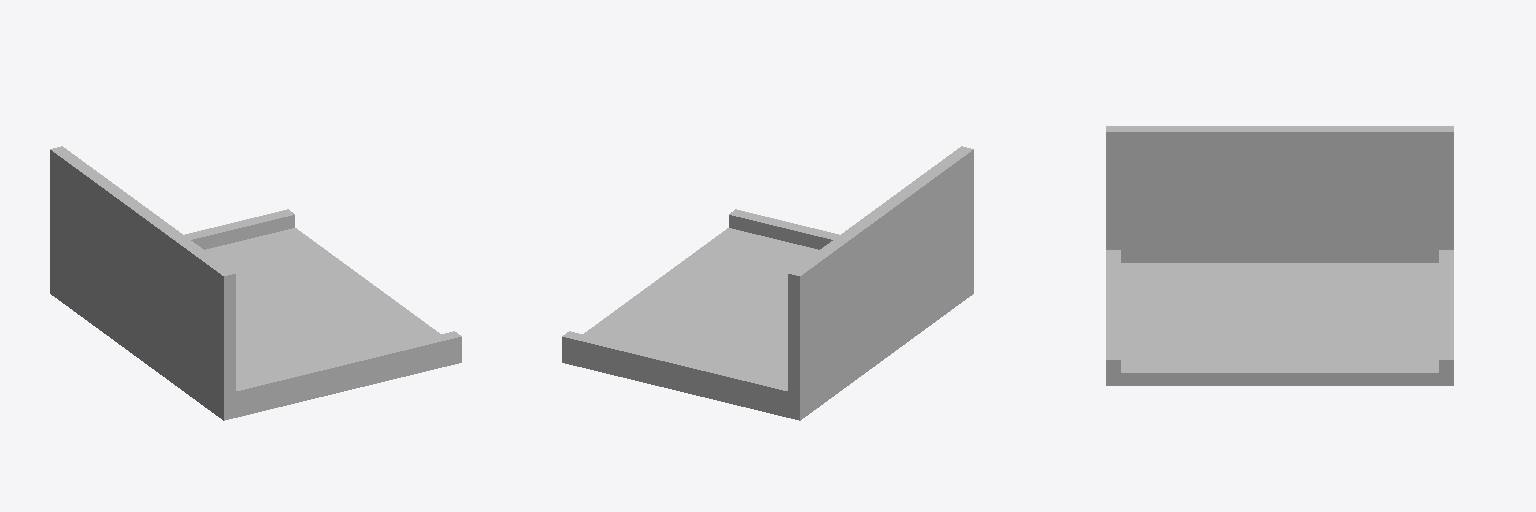
The model's file is exit.obj.
3 renders of one model, left to right at view 1: azimuth 30°, elevation 25°; view 2: azimuth 150°, elevation 25°; view 3: azimuth 270°, elevation 25°, orthographic.
Parts seen in each view (by area): view 1: object 1; view 2: object 1; view 3: object 1.
Part boxes in pixels (bbox=[...]): object 1: bbox=[50, 146, 461, 420]; object 1: bbox=[562, 146, 973, 420]; object 1: bbox=[1106, 126, 1453, 385].
Size of the model in its own units: 1.9 by 1.1 by 2.4.